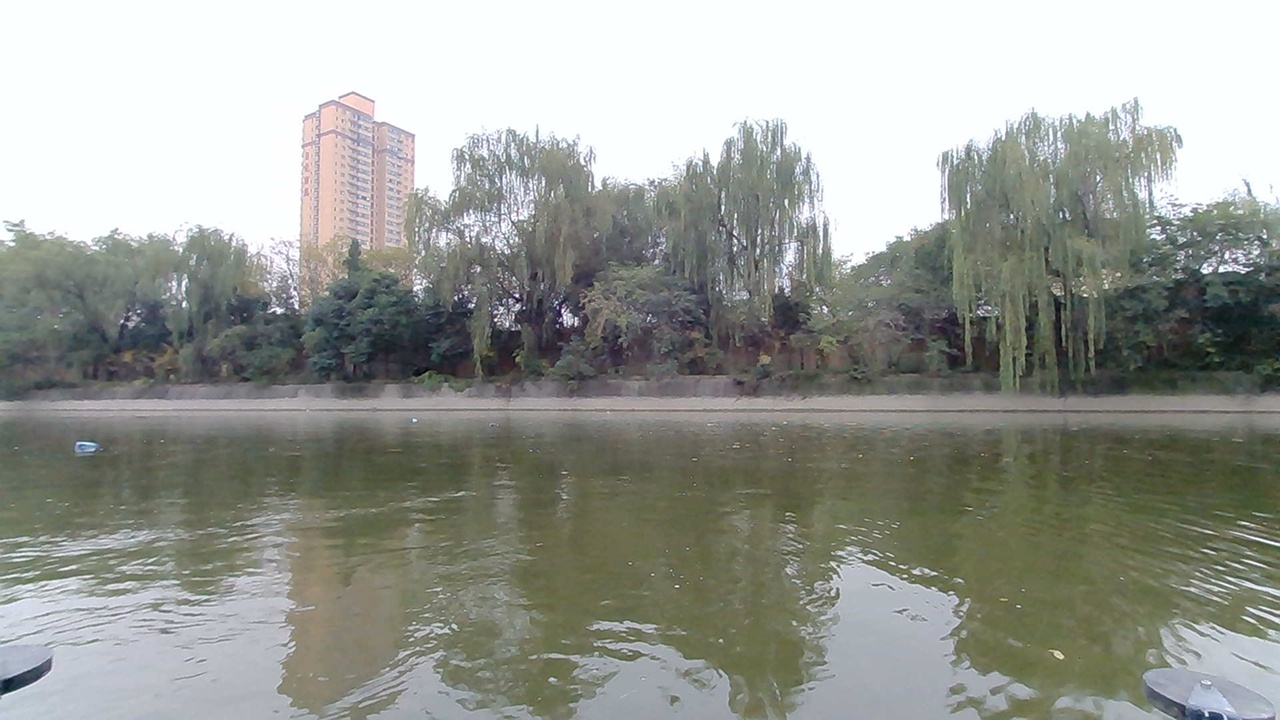bottle: (61, 428, 116, 461)
